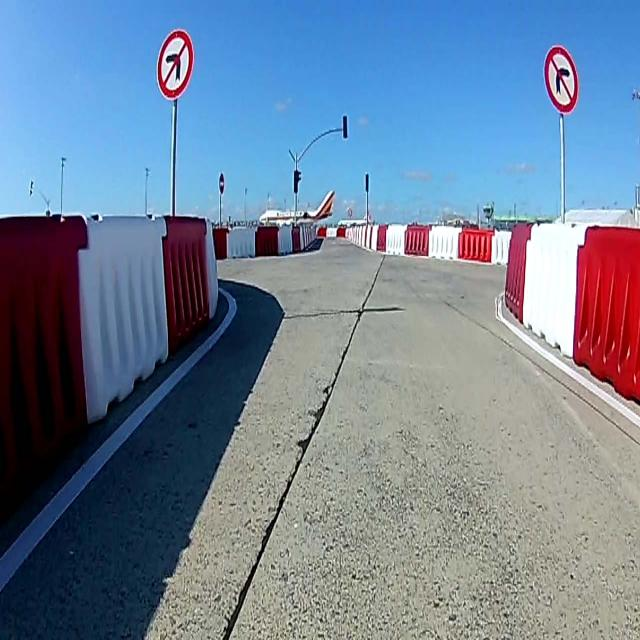sagadonulmez: (543, 43, 581, 109)
soladonulmez: (156, 30, 194, 99)
